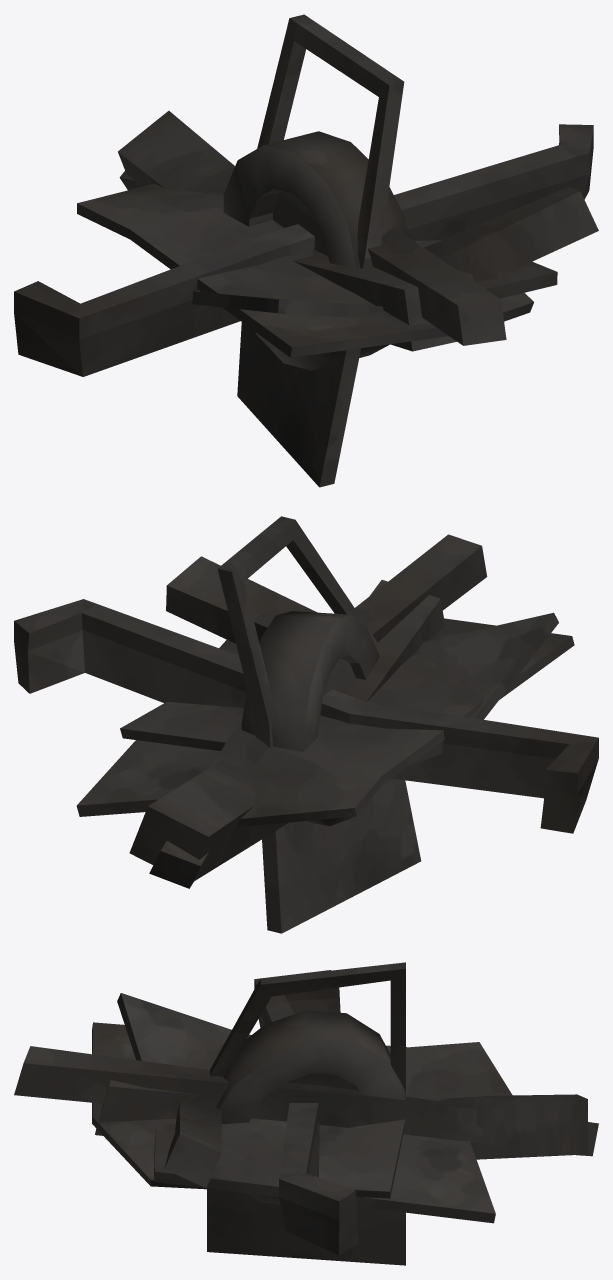
File: Debris.FBX
3 renders of one model, top to bottom at view 1: azimuth 30°, elevation 25°; view 2: azimuth 150°, elevation 25°; view 3: azimuth 270°, elevation 25°, orthographic. The views are drawn at different scales.
Visible parts, largest first — view 1: DebrisCarBumper1, DebrisCarDoor1, DebrisPlate2, DebrisBar2, DebrisCarTyre, DebrisBar1, DebrisPlate1; view 2: DebrisCarBumper1, DebrisPlate2, DebrisCarDoor1, DebrisBar2, DebrisPlate1, DebrisCarTyre, DebrisBar1; view 3: DebrisPlate1, DebrisCarDoor1, DebrisBar1, DebrisPlate2, DebrisBar2, DebrisCarTyre, DebrisCarBumper1.
Part boxes in pixels (box(x1,y1,x2,y2)): DebrisCarBumper1: box(14, 124, 593, 376); DebrisCarDoor1: box(237, 14, 404, 487); DebrisPlate2: box(77, 184, 533, 357); DebrisBar2: box(118, 111, 598, 351); DebrisCarTyre: box(223, 131, 409, 370); DebrisBar1: box(119, 171, 506, 345); DebrisPlate1: box(192, 240, 557, 317); DebrisCarBumper1: box(14, 599, 598, 833); DebrisPlate2: box(120, 618, 574, 826); DebrisCarDoor1: box(217, 516, 421, 933); DebrisBar2: box(129, 556, 444, 881); DebrisPlate1: box(76, 612, 558, 816); DebrisCarTyre: box(241, 611, 379, 826); DebrisBar1: box(149, 534, 487, 888); DebrisPlate1: box(117, 993, 495, 1223); DebrisCarDoor1: box(207, 962, 405, 1265); DebrisBar1: box(14, 1046, 598, 1156); DebrisPlate2: box(92, 1022, 512, 1198); DebrisBar2: box(95, 1080, 587, 1187); DebrisCarTyre: box(216, 1010, 405, 1205); DebrisCarBumper1: box(254, 970, 358, 1255).
Size of the model in its own units: 2.52 by 1.51 by 2.5.
